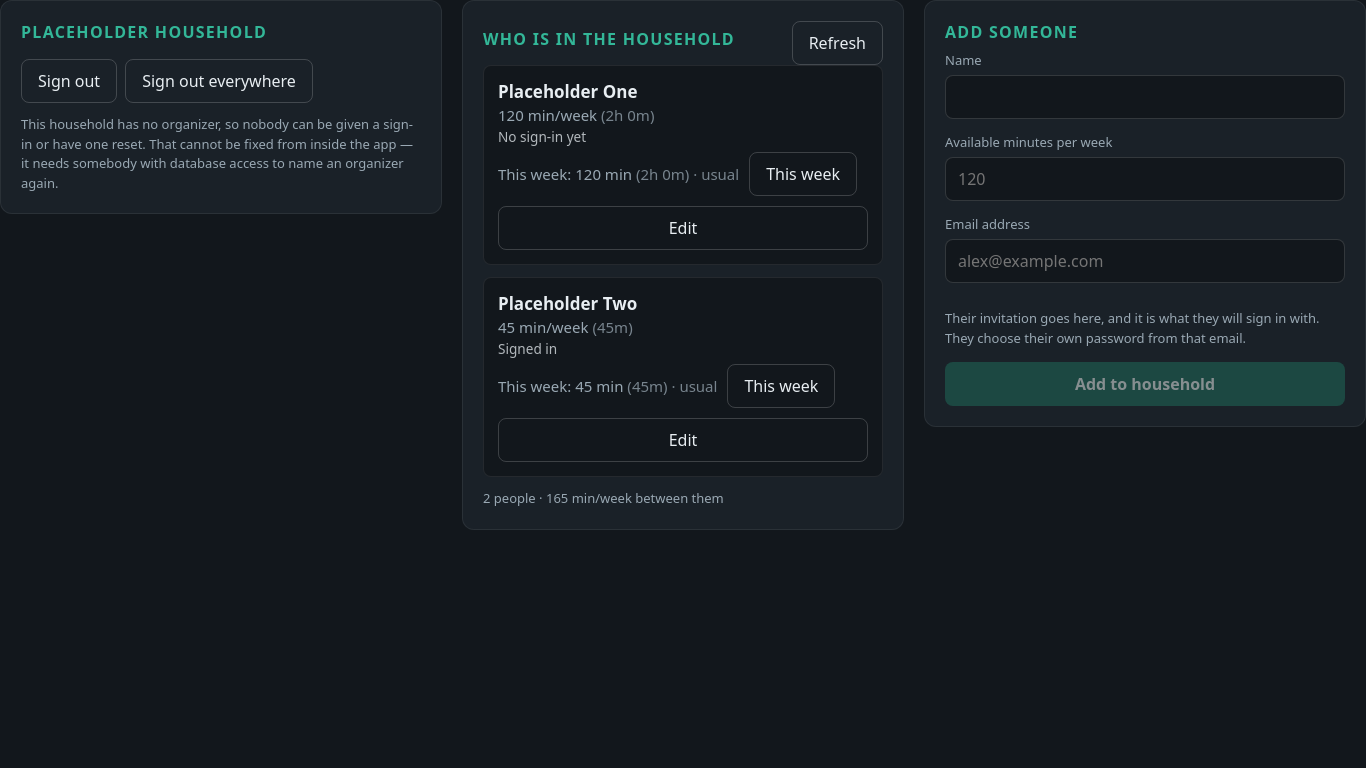
adding someone — AC 2 › #191 AC 1: adding somebody sends their invitation, for the row the add created
Type "Placeholder Three" into the field labelled "Name". click: (1145,97)
box: [945, 75, 1345, 119]
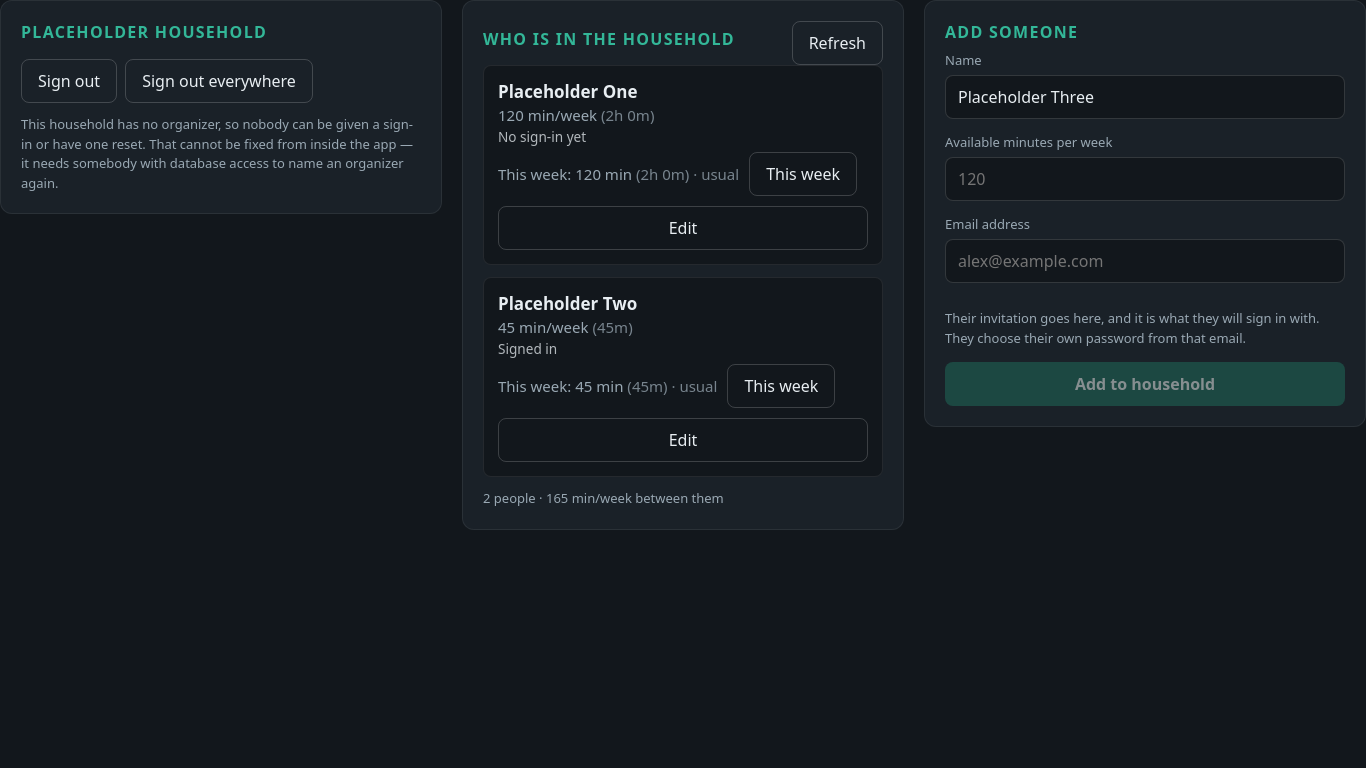
Type "placeholder.three@example.com" into the field labelled "Email address". click: (1145,261)
box: [945, 239, 1345, 283]
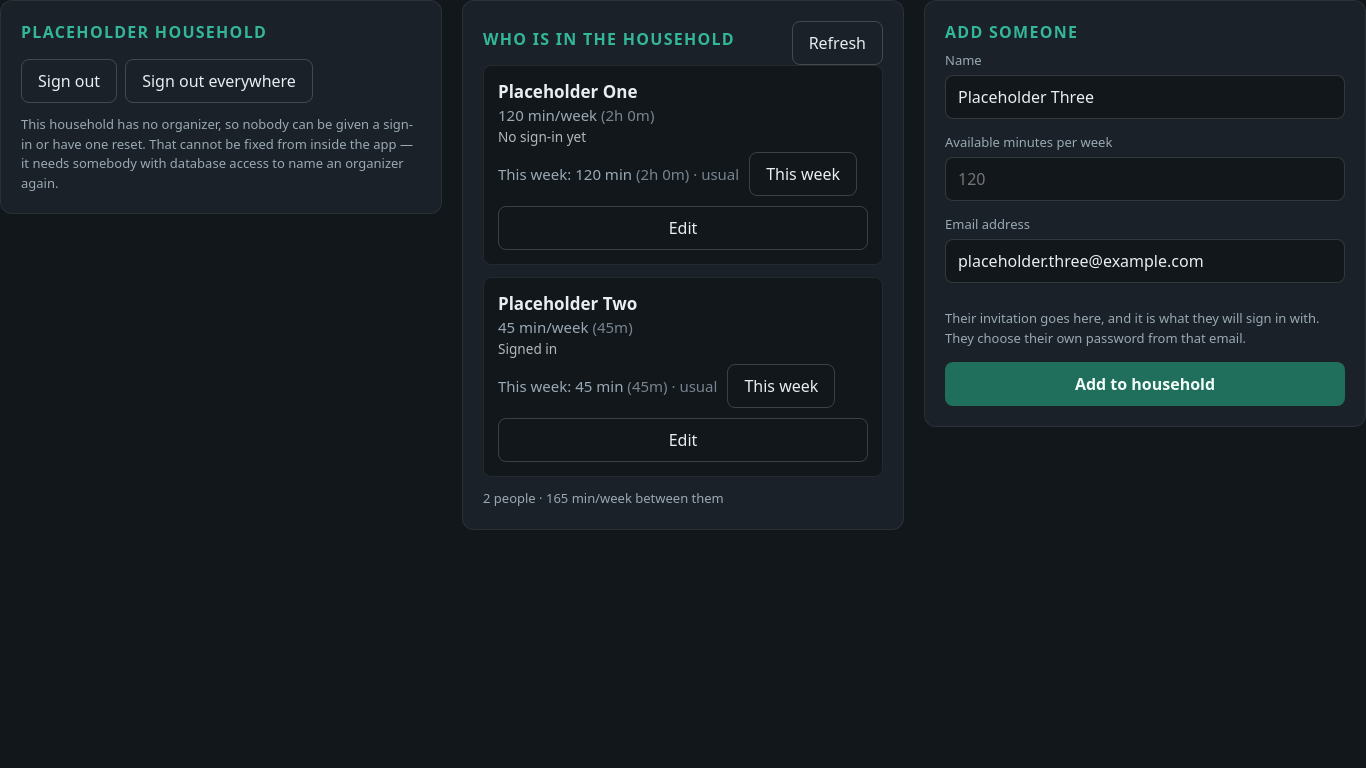
Click the button "Add to household". click: (1145,384)
box: [945, 362, 1345, 406]
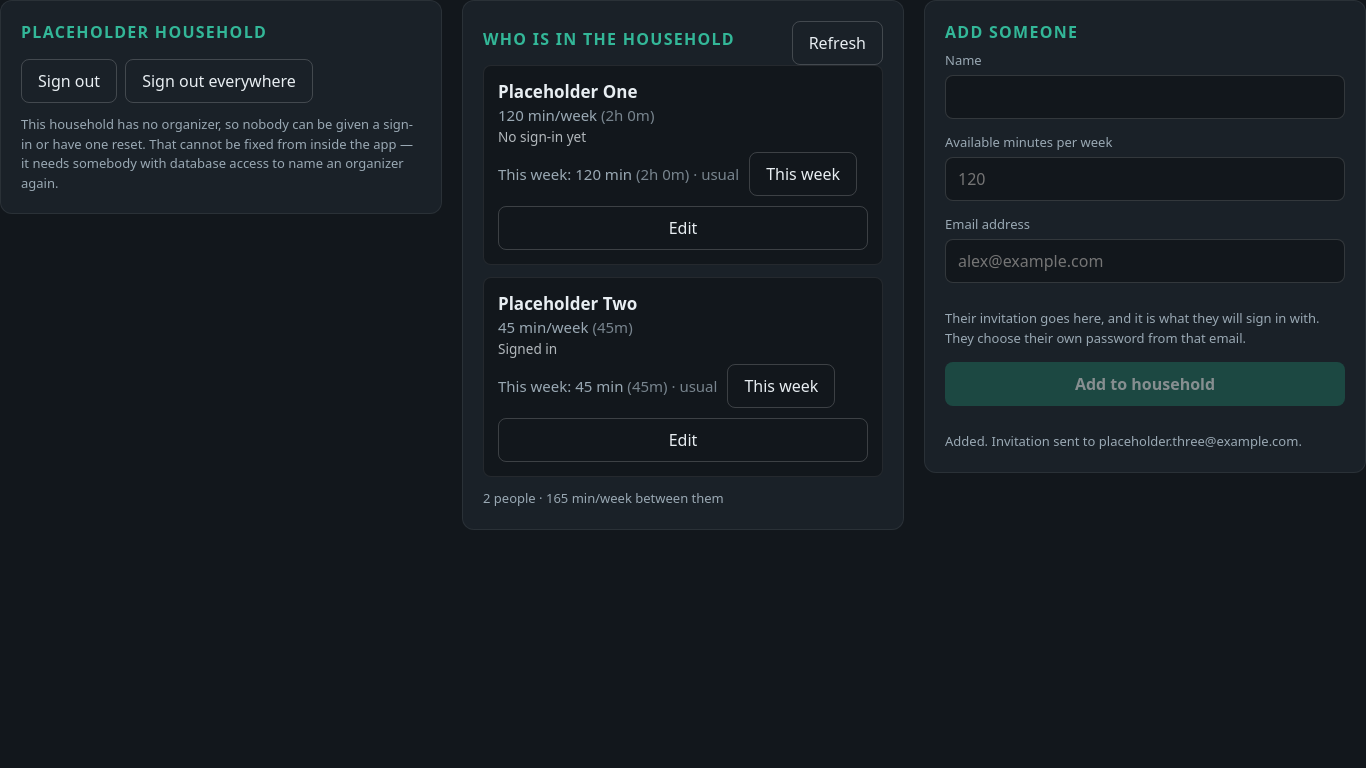
Expected: the message with test id "add-note" reads "Added. Invitation sent to placeholder.three@example.com.", [945, 432, 1302, 450]
